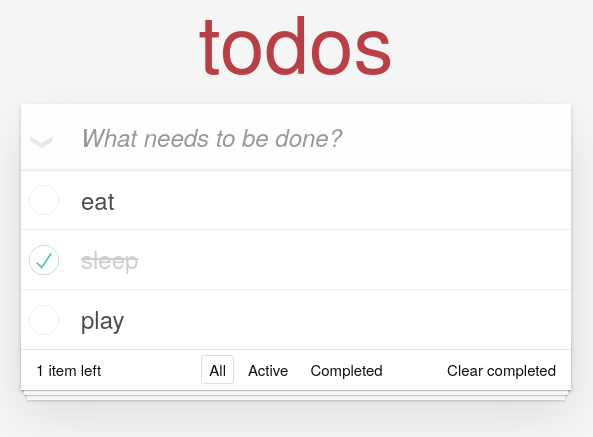
Test: 切换所有任务的完成状态 › 点击切换所有按钮，所有的任务应该随之改变
What coordinates should you click on to do the following:
click the checkbox with test id "toggle-all"
I would click on:
 (38, 136)
Its box is [21,106,55,166].
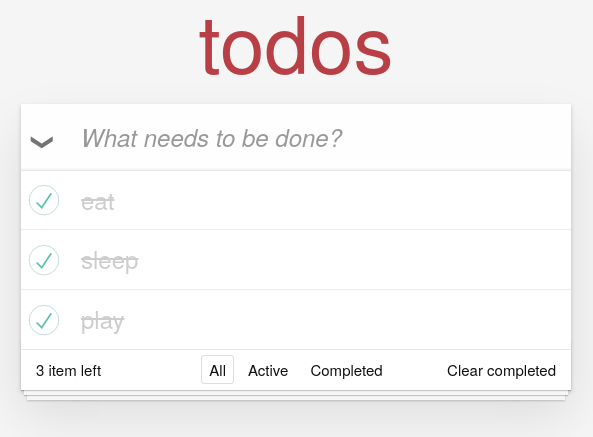
Expected: the checkbox with test id "todo-done" is checked, [21,171,571,229]
What coordinates should you click on to do the following:
click the checkbox with test id "toggle-all"
I would click on:
 (38, 136)
Its box is [21,106,55,166].
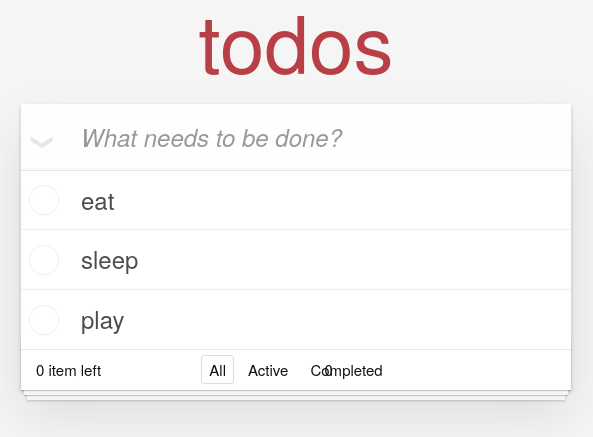
Expected: the checkbox with test id "todo-done" is not checked, [21,171,571,229]
